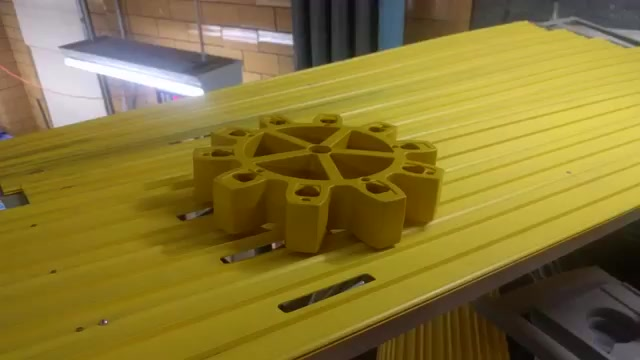gear: (186, 110, 448, 255)
